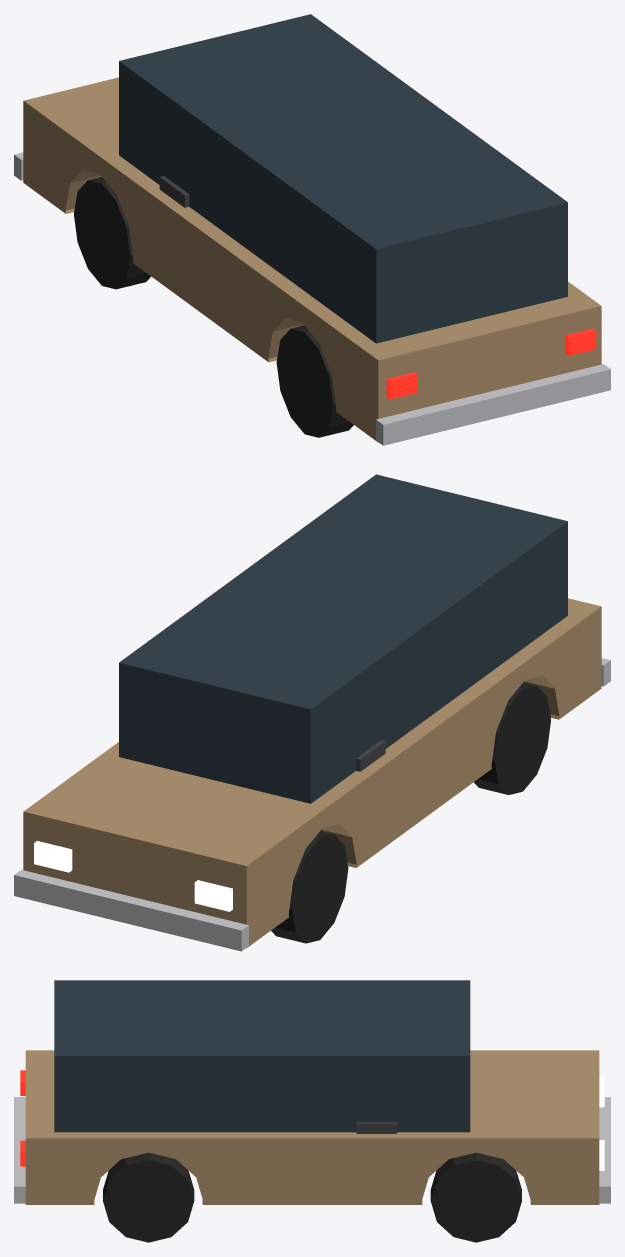
Rendered from wagon.glb.
3 renders of one model, top to bottom at view 1: azimuth 30°, elevation 25°; view 2: azimuth 150°, elevation 25°; view 3: azimuth 270°, elevation 25°, orthographic. The views are drawn at different scales.
Visible parts, largest first — view 1: cabin, body, bumper_r, WHEEL_RL, WHEEL_FL, taillamp, taillamp.001; view 2: cabin, body, bumper_f, WHEEL_FL, WHEEL_RL, headlamp, headlamp.001; view 3: cabin, body, WHEEL_FR, WHEEL_RR, bumper_r, bumper_f, dashboard.
Boxes of the visible parts, x1,y1,x2,y2 form: cabin: (119,14,567,343); body: (23,77,601,442); bumper_r: (376,364,610,445); WHEEL_RL: (276,325,353,437); WHEEL_FL: (74,177,150,289); taillamp: (386,372,417,399); taillamp.001: (565,328,596,355); cabin: (119,474,567,803); body: (23,598,601,948); bumper_f: (14,869,248,951); WHEEL_FL: (271,831,348,943); WHEEL_RL: (474,682,550,794); headlamp: (194,880,232,911); headlamp.001: (34,841,72,872); cabin: (54,980,470,1132); body: (25,1050,599,1204); WHEEL_FR: (430,1152,521,1242); WHEEL_RR: (103,1152,194,1242); bumper_r: (14,1097,25,1203); bumper_f: (599,1097,610,1203); dashboard: (356,1122,397,1133).
Bounding box in the file's own units: 1.82 × 1.71 × 5.1.
